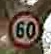limite 60: (8, 9, 42, 48)
